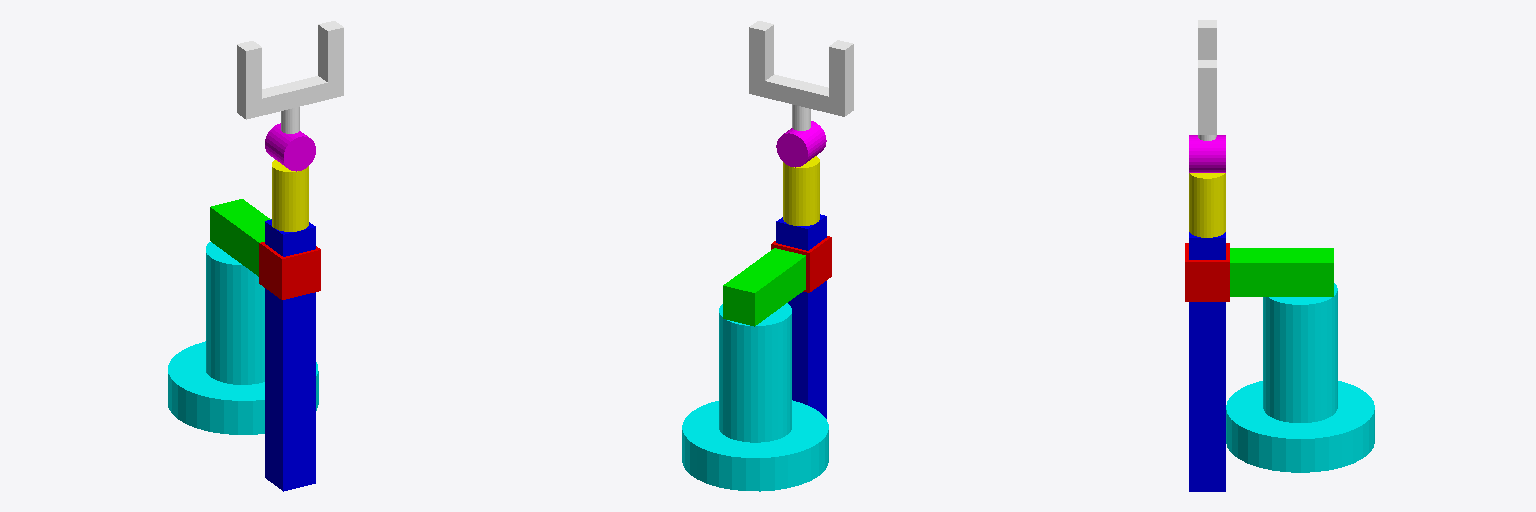
robot.urdf — stanford_manipulator:
<robot name="stanford_manipulator">
  <link name="link1">
    <visual>
      <origin xyz="0 0 0.05" rpy="0 0 0" />
      <geometry>
        <cylinder radius="0.2" length="0.1" />
      </geometry>
      <material name="Cyan">
        <color rgba="0 1.0 1.0 1.0"/>
      </material>
    </visual>
    <visual>
      <origin xyz="0 0 0.225" rpy="0 0 0" />
      <geometry>
        <cylinder radius="0.1" length="0.45" />
      </geometry>
      <material name="Cyan" />
    </visual>
    <collision>
      <origin xyz="0 0 0.05" rpy="0 0 0" />
      <geometry>
        <cylinder radius="0.2" length="0.1" />
      </geometry>
      <material name="Cyan">
        <color rgba="0 1.0 1.0 1.0"/>
      </material>
    </collision>
    <collision>
      <origin xyz="0 0 0.225" rpy="0 0 0" />
      <geometry>
        <cylinder radius="0.1" length="0.45" />
      </geometry>
      <material name="Cyan" />
    </collision>
 </link>

  <link name="link2">
    <visual>
      <origin xyz="0 -0.05 0.5" rpy="0 0 0" />
      <geometry>
        <box size="0.1 0.28 0.1" />
      </geometry>
      <material name="Green">
        <color rgba="0 1.0 0 1.0"/>
      </material>
    </visual>
    <collision>
      <origin xyz="0 -0.05 0.5" rpy="0 0 0" />
      <geometry>
        <box size="0.1 0.28 0.1" />
      </geometry>
      <material name="Green">
        <color rgba="0 1.0 0 1.0"/>
      </material>
    </collision>
  </link>

  <link name="link3" >
    <visual>
      <origin xyz="0 -0.25 0.0" rpy="0 0 0" />
      <geometry>
        <box size="0.12 0.12 0.12" />
      </geometry>
      <material name="Red">
        <color rgba="1 0 0 1"/>
      </material>
    </visual>
    <collision>
      <origin xyz="0 -0.25 0.0" rpy="0 0 0" />
      <geometry>
        <box size="0.12 0.12 0.12" />
      </geometry>
      <material name="Red">
        <color rgba="1 0 0 1"/>
      </material>
    </collision>

  </link>

  <link name="link4" >
    <visual>
      <origin xyz="0 0 -0.25" rpy="0 0 0" />
      <geometry>
        <box size="0.1 0.1 0.75" />
      </geometry>
      <material name="Blue">
        <color rgba="0 0 1 1"/>
      </material>
    </visual>
    <collision>
      <origin xyz="0 0 -0.25" rpy="0 0 0" />
      <geometry>
        <box size="0.1 0.1 0.75" />
      </geometry>
      <material name="Blue">
        <color rgba="0 0 1 1"/>
      </material>
    </collision>

  </link>

  <link name="link5" >
    <visual>
      <origin xyz="0 0 -0.05" rpy="0 0 0" />
      <geometry>
        <cylinder radius="0.05" length="0.2" />
      </geometry>
      <material name="Yellow">
        <color rgba="1 1 0 1"/>
      </material>
    </visual>
    <collision>
      <origin xyz="0 0 -0.05" rpy="0 0 0" />
      <geometry>
        <cylinder radius="0.05" length="0.2" />
      </geometry>
      <material name="Yellow">
        <color rgba="1 1 0 1"/>
      </material>
    </collision>
  </link>

  <link name="link6">
    <visual>
      <origin xyz="0 0 0.0" rpy="1.57 0 0" />
      <geometry>
        <cylinder radius="0.05" length="0.1" />
      </geometry>
      <material name="Perple">
        <color rgba="1 0 1 1"/>
      </material>
    </visual>
    <collision>
      <origin xyz="0 0 0.0" rpy="1.57 0 0" />
      <geometry>
        <cylinder radius="0.05" length="0.1" />
      </geometry>
      <material name="Perple">
        <color rgba="1 0 1 1"/>
      </material>
    </collision>

  </link>

  <link name="link7">
    <visual>
      <origin xyz="0 0 0.0" rpy="0 0 0" />
      <geometry>
        <cylinder radius="0.025" length="0.1" />
      </geometry>
      <material name="White">
        <color rgba="1 1 1 1"/>
      </material>
    </visual>
    <visual>
      <origin xyz="0 0 0.05" rpy="0 0 0" />
      <geometry>
        <box size="0.3 0.05 0.05 "/>
      </geometry>
      <material name="White">
        <color rgba="1 1 1 1"/>
      </material>
    </visual>
    <visual>
      <origin xyz="0.125 0 0.15" rpy="0 0 0" />
      <geometry>
        <box size="0.05 0.05 0.15 "/>
      </geometry>
      <material name="White">
        <color rgba="1 1 1 1"/>
      </material>
    </visual>
    <visual>
      <origin xyz="-0.125 0 0.15" rpy="0 0 0" />
      <geometry>
        <box size="0.05 0.05 0.15 "/>
      </geometry>
      <material name="White">
        <color rgba="1 1 1 1"/>
      </material>
    </visual>
    <collision>
      <origin xyz="0 0 0.0" rpy="0 0 0" />
      <geometry>
        <cylinder radius="0.025" length="0.1" />
      </geometry>
      <material name="White">
        <color rgba="1 1 1 1"/>
      </material>
    </collision>
    <collision>
      <origin xyz="0 0 0.05" rpy="0 0 0" />
      <geometry>
        <box size="0.3 0.05 0.05 "/>
      </geometry>
      <material name="White">
        <color rgba="1 1 1 1"/>
      </material>
    </collision>
    <collision>
      <origin xyz="0.125 0 0.15" rpy="0 0 0" />
      <geometry>
        <box size="0.05 0.05 0.15 "/>
      </geometry>
      <material name="White">
        <color rgba="1 1 1 1"/>
      </material>
    </collision>
    <collision>
      <origin xyz="-0.125 0 0.15" rpy="0 0 0" />
      <geometry>
        <box size="0.05 0.05 0.15 "/>
      </geometry>
      <material name="White">
        <color rgba="1 1 1 1"/>
      </material>
    </collision>
  </link>

  <joint name="joint1" type="revolute">
    <parent link="link1"/>
    <child link="link2"/>
    <origin xyz="0 0 0" />
    <axis xyz="0 0 1" />
    <limit lower="-3.14" upper="3.14" effort="1000.0" velocity="1.0"/>
  </joint>

  <joint name="joint2" type="revolute">
    <parent link="link2"/>
    <child link="link3"/>
    <origin xyz="0 0 0.5" />
    <axis xyz="0 1 0" />
    <limit lower="-3.14" upper="3.14" effort="1000.0" velocity="1.0"/>
  </joint>

  <joint name="joint3" type="prismatic">
    <parent link="link3"/>
    <child link="link4"/>
    <origin xyz="0 -0.25 0" />
    <axis xyz="0 0 1" />
    <limit lower="0.0" upper="0.5" effort="1000.0" velocity="1.0"/>
  </joint>

  <joint name="joint4" type="revolute">
    <parent link="link4"/>
    <child link="link5"/>
    <origin xyz="0 0 0.25" />
    <axis xyz="0 0 1" />
    <limit lower="-3.14" upper="3.14" effort="1000.0" velocity="1.0"/>
  </joint>

  <joint name="joint5" type="revolute">
    <parent link="link5"/>
    <child link="link6"/>
    <origin xyz="0 0 0.1"/>
    <axis xyz="0 1 0" />
    <limit lower="-3.14" upper="3.14" effort="1000.0" velocity="1.0"/>
  </joint>

  <joint name="joint6" type="revolute">
    <parent link="link6"/>
    <child link="link7"/>
    <origin xyz="0 0 0.1" />
    <axis xyz="0 0 1" />
    <limit lower="-3.14" upper="3.14" effort="1000.0" velocity="1.0"/>
  </joint>

  <!-- for test fixed joint -->
  <link name="frame1"/>
  <joint name="fixed_to_frame1" type="fixed">
    <parent link="link1"/>
    <child link="frame1"/>
    <origin xyz="1 2 3" rpy="0 0 1.0"/>
  </joint>

  <link name="dummy_mimic_link"/>
  <joint name="dummy_mimic_joint" type="revolute">
    <parent link="link7"/>
    <child link="dummy_mimic_link"/>
    <origin xyz="0 0 0" />
    <axis xyz="0 1 0" />
    <limit lower="0.0" upper="3.14" effort="1000.0" velocity="1.0"/>
    <mimic joint="joint6" multiplier="-0.5" offset="1.57"/> 
  </joint>

  <link name="dummy_continuous_link"/>
  <joint name="dummy_continuous_joint" type="continuous">
    <parent link="link7"/>
    <child link="dummy_continuous_link"/>
    <origin xyz="0 0 0" />
    <axis xyz="0 0 1" />
    <limit effort="1000.0" velocity="1.0"/>
  </joint>

</robot>

--- What the picture shows (computed from the rendered views, not written in the file) ---
Views: 3 orthographic renders of the robot side by side, from view 1: azimuth 30°, elevation 25°; view 2: azimuth 150°, elevation 25°; view 3: azimuth 270°, elevation 25°.
Robot: stanford_manipulator — 10 links, 9 joints (6 revolute, 1 continuous, 1 prismatic, 1 fixed); root link link1; default pose: every joint at zero.
Links seen in each view (by area): view 1: link1, link4, link7, link2, link3, link5, link6; view 2: link1, link7, link4, link2, link5, link6, link3; view 3: link1, link4, link2, link5, link7, link3, link6.
Link boxes in pixels (x1,y1,x2,y2): link1: (168, 242, 318, 434); link4: (265, 219, 315, 491); link7: (237, 21, 343, 133); link2: (210, 199, 270, 276); link3: (259, 242, 320, 299); link5: (272, 160, 308, 231); link6: (265, 123, 315, 171); link1: (682, 303, 828, 491); link7: (749, 21, 853, 130); link4: (776, 214, 826, 418); link2: (723, 248, 805, 326); link5: (783, 156, 819, 225); link6: (776, 121, 826, 167); link3: (771, 236, 831, 292); link1: (1226, 283, 1374, 472); link4: (1189, 232, 1225, 491); link2: (1230, 248, 1333, 296); link5: (1189, 173, 1225, 237); link7: (1198, 20, 1216, 140); link3: (1185, 243, 1229, 301); link6: (1189, 135, 1225, 172).
Bounding box of the posed robot: 0.4 × 0.51 × 1.3 m (x, y, z).
Geometry: primitives only (box / cylinder / sphere), no mesh files.